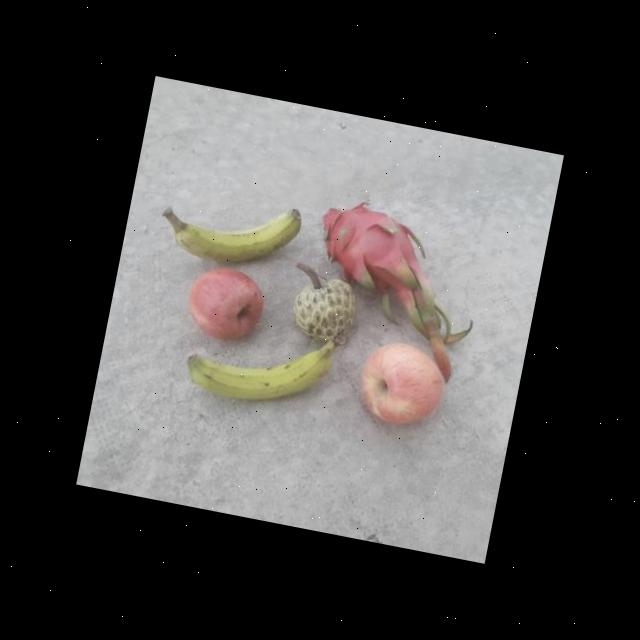Sakya fruit: (290, 271, 362, 346)
apple: (357, 338, 452, 430), (181, 262, 271, 346)
banana: (178, 325, 334, 416), (172, 187, 308, 283)
pitaya: (317, 192, 440, 296)
